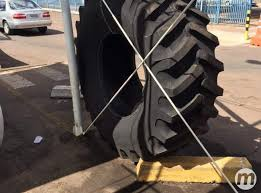tire: (73, 1, 226, 163)
